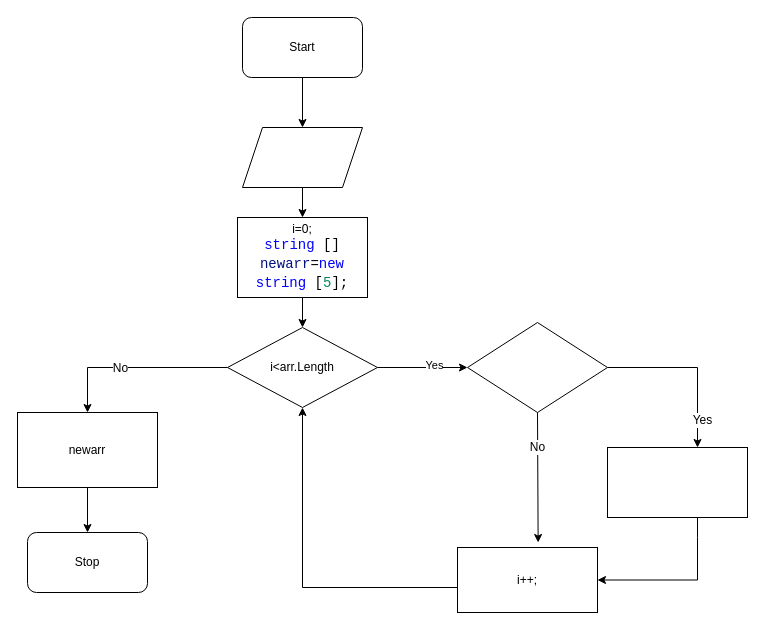
This 766x630 diagram has some shape labels left out. The shapes that lost their labels are listed below. From the top down, each one's centre as x and y in pixels, then its label:
At pixel 302 157: "string[] arr= new string [5]".
At pixel 537 367: "arr [ i ]. Length <= 3".
At pixel 677 482: "newarr [ i ]= arr [ i ];".
